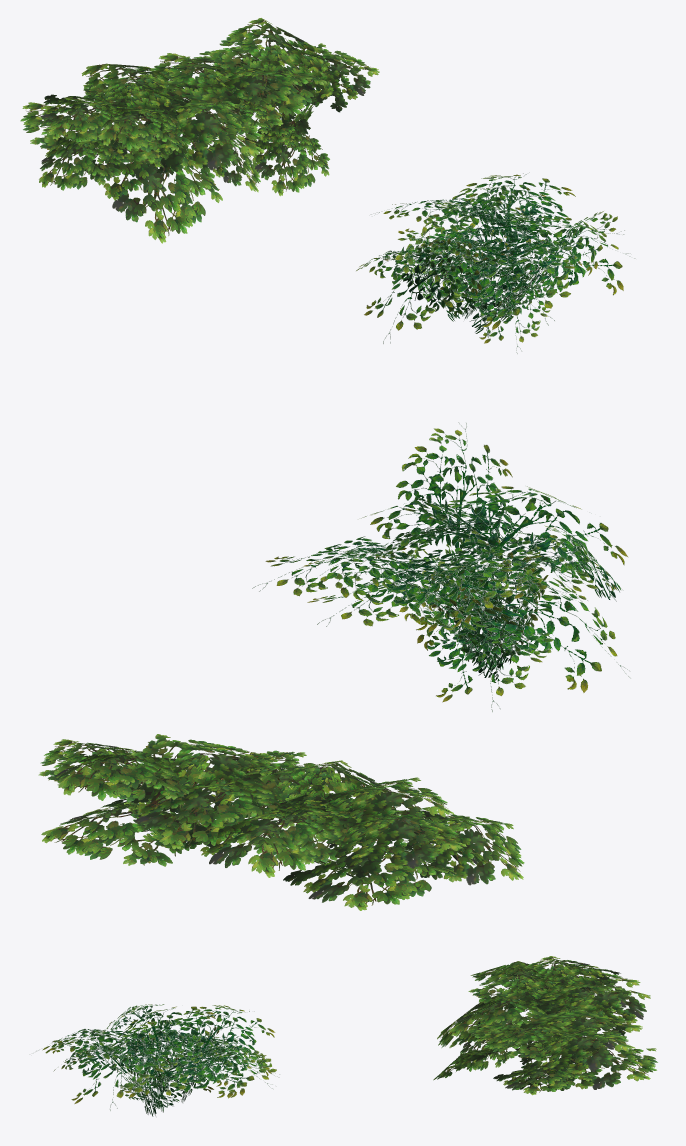
Rendered from JJS_DL_GuanMu.FBX.
3 views of the same model, one above another, from view 1: azimuth 30°, elevation 25°; view 2: azimuth 150°, elevation 25°; view 3: azimuth 270°, elevation 25° (orthographic). The views are drawn at different scales.
Parts seen in each view (by area): view 1: JJS_DL_GuanMu01, JJS_DL_GuanMu02; view 2: JJS_DL_GuanMu01, JJS_DL_GuanMu02; view 3: JJS_DL_GuanMu01, JJS_DL_GuanMu02.
Part boxes in pixels (<box>): JJS_DL_GuanMu01: <box>20,18,379,243</box>; JJS_DL_GuanMu02: <box>356,172,635,353</box>; JJS_DL_GuanMu01: <box>38,734,524,910</box>; JJS_DL_GuanMu02: <box>252,422,630,711</box>; JJS_DL_GuanMu01: <box>433,956,657,1095</box>; JJS_DL_GuanMu02: <box>36,1004,279,1116</box>.
Bounding box in the file's own units: 218 × 80.27 × 362.
